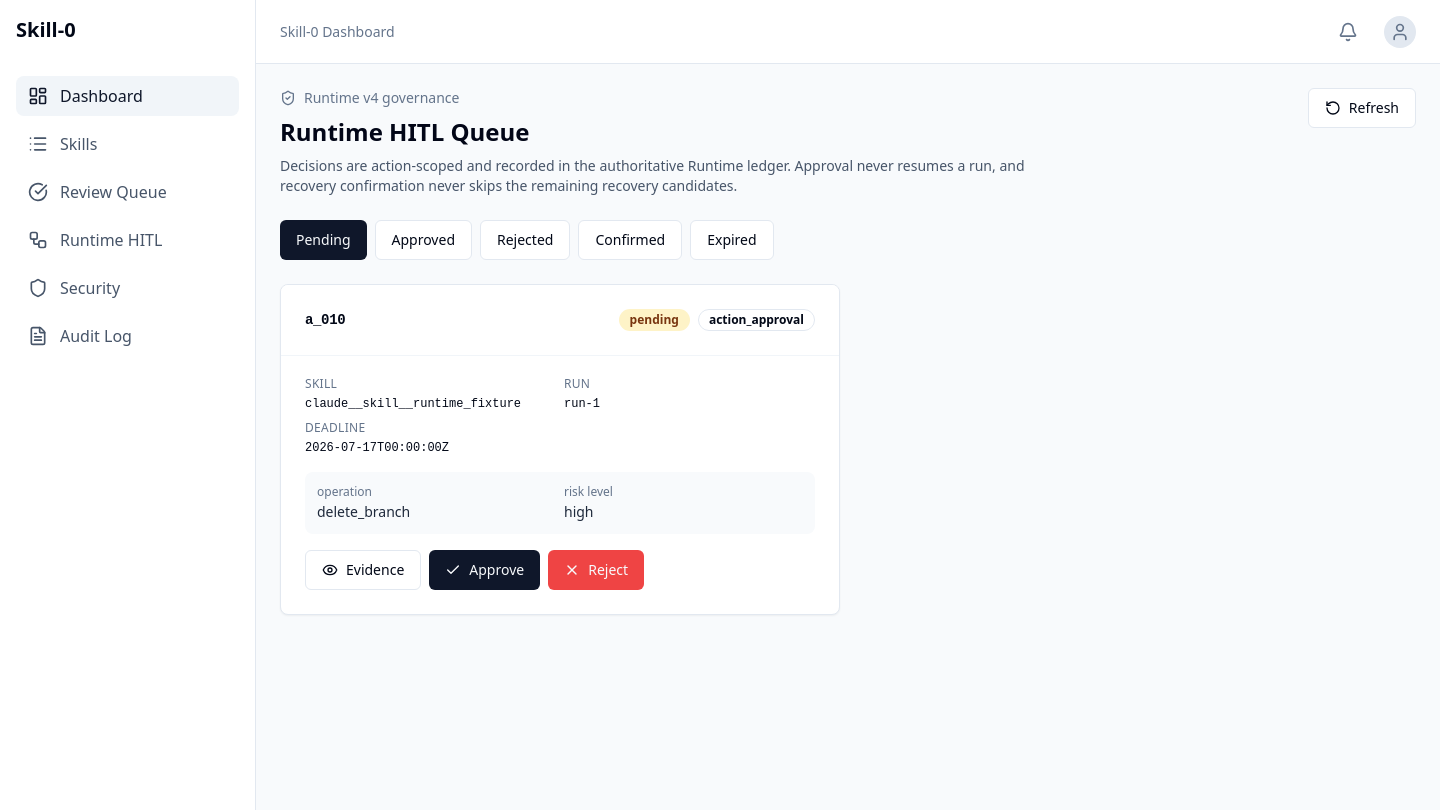
Scenario: RuntimeGovernance › records an action approval without actor or automatic resume
Check: the text "delete_branch" is shown, box left=317, top=502, right=410, bottom=521
Click the button "Approve": [485, 570] box left=429, top=550, right=540, bottom=590
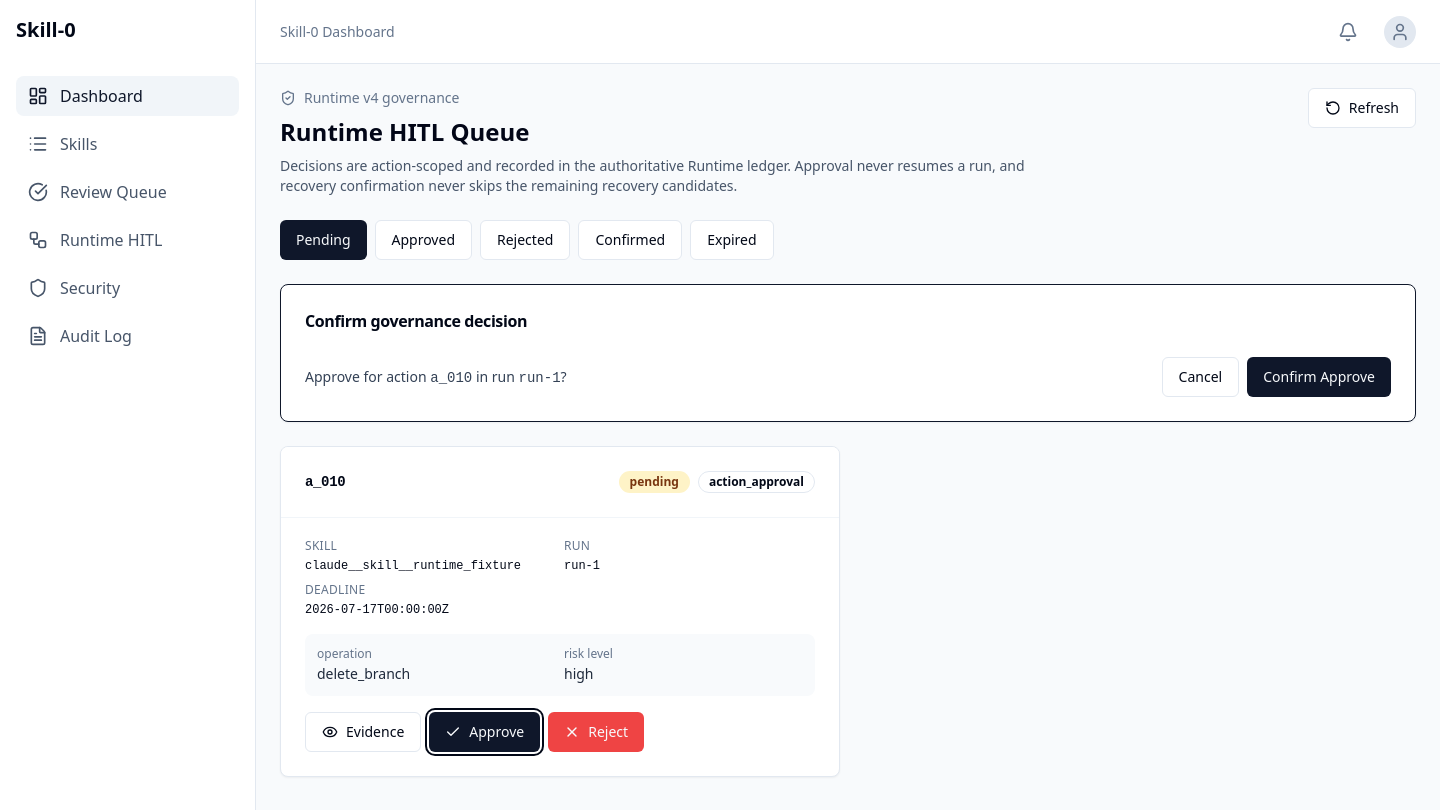
Check: the heading "Confirm governance decision" is shown, box left=305, top=310, right=527, bottom=332
Click the button "Confirm Approve": [1319, 377] box left=1247, top=357, right=1391, bottom=397
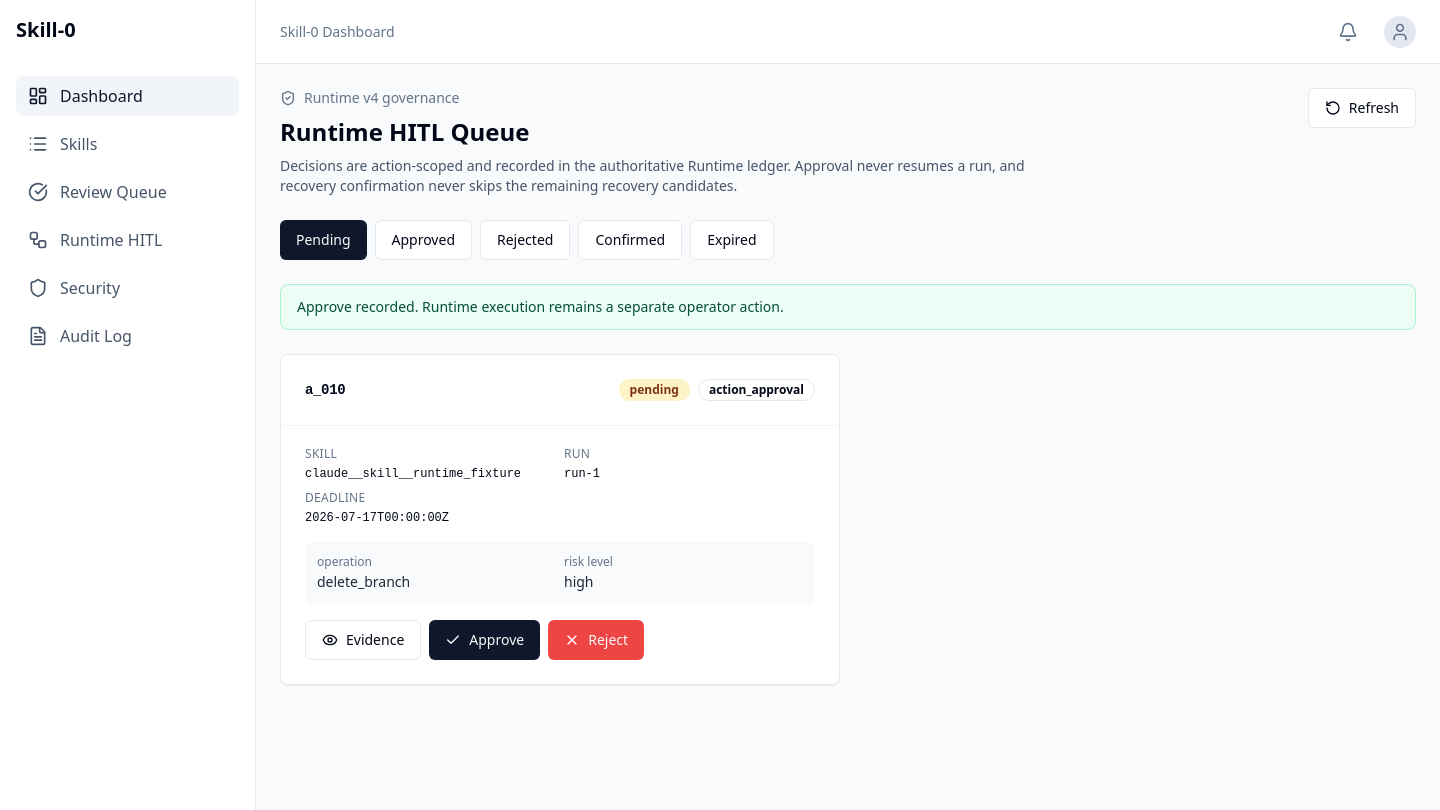
Check: the message shows "Runtime execution remains a separate operator action.", box left=297, top=297, right=784, bottom=316
